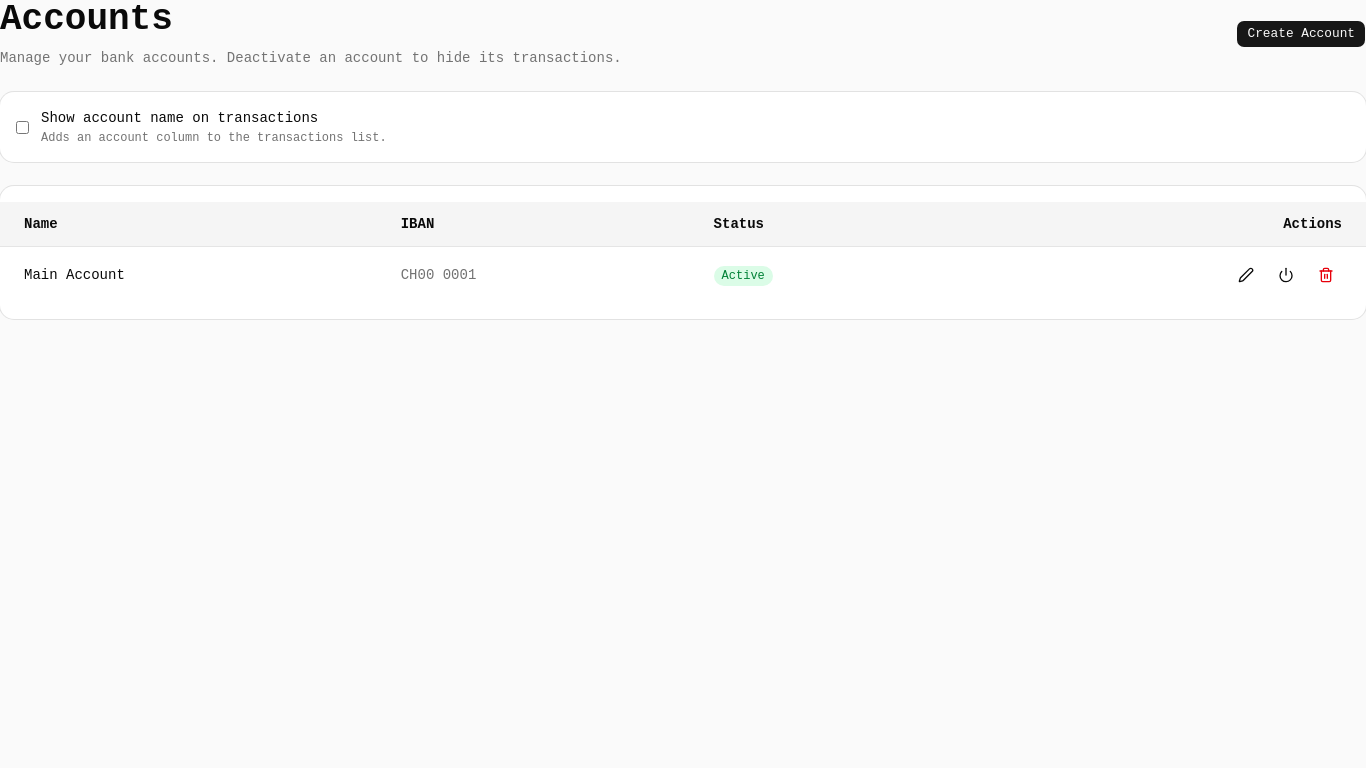
SettingsAccounts › closes the confirm dialog after a successful delete
Click the button titled "Delete": (1326, 275) [1310, 259, 1342, 291]
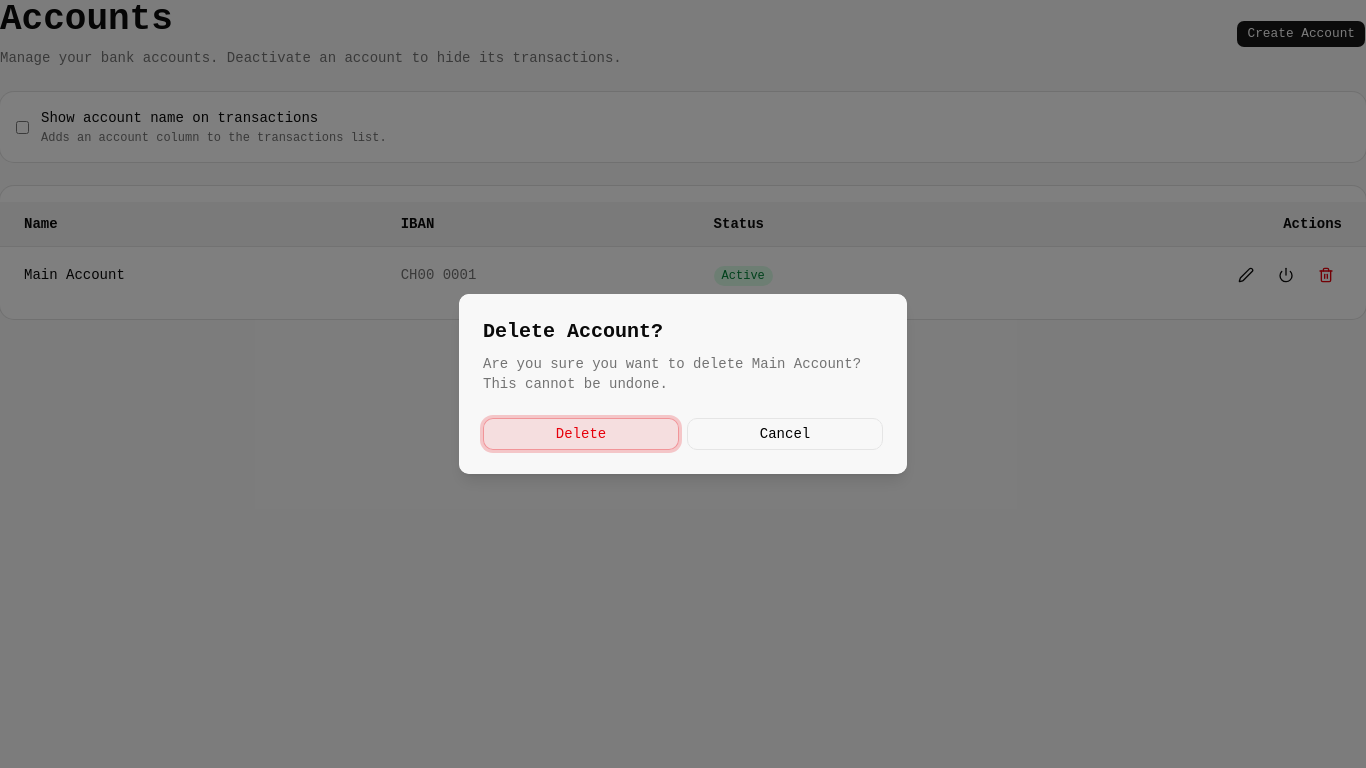
Check: the heading "Delete Account?" is shown, box [483, 320, 663, 343]
Click the button "Delete": (581, 434) [483, 418, 679, 450]
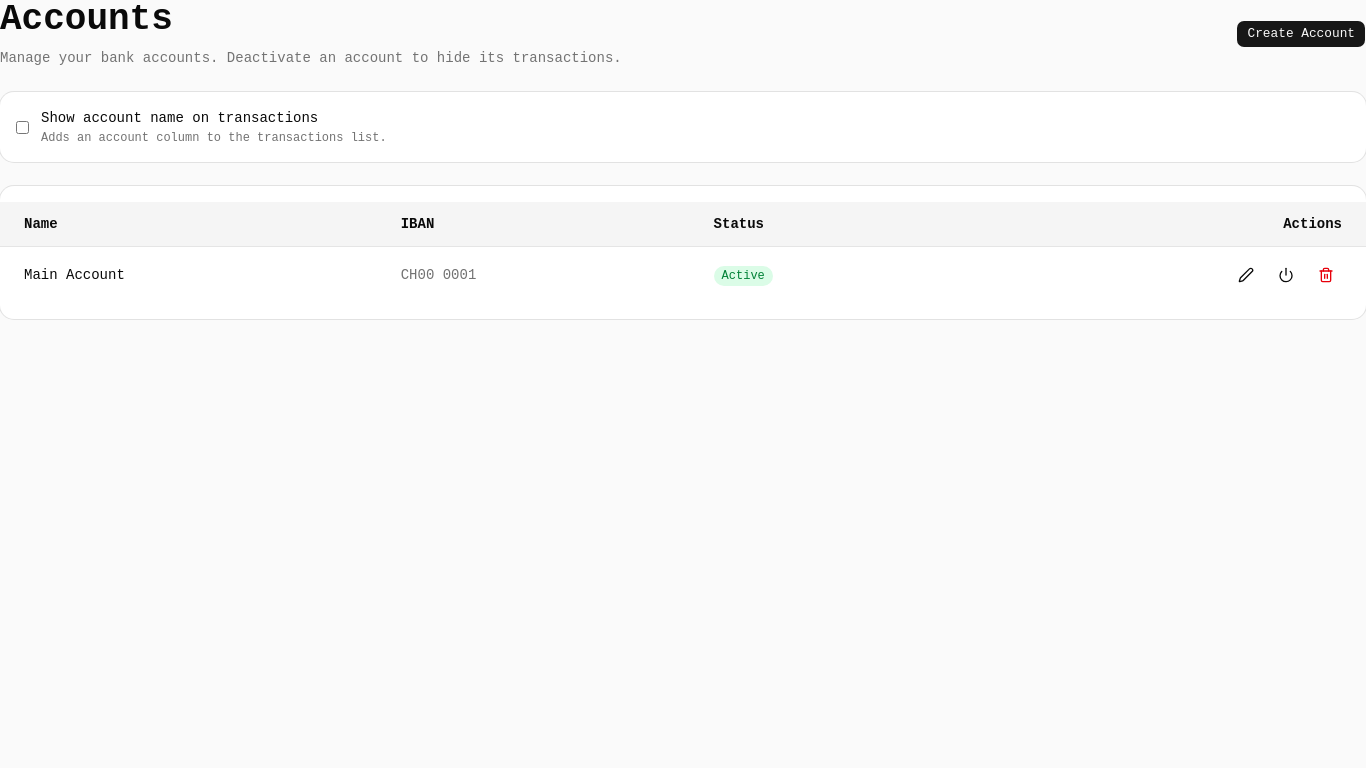
Check: the heading "Delete Account?" is gone
